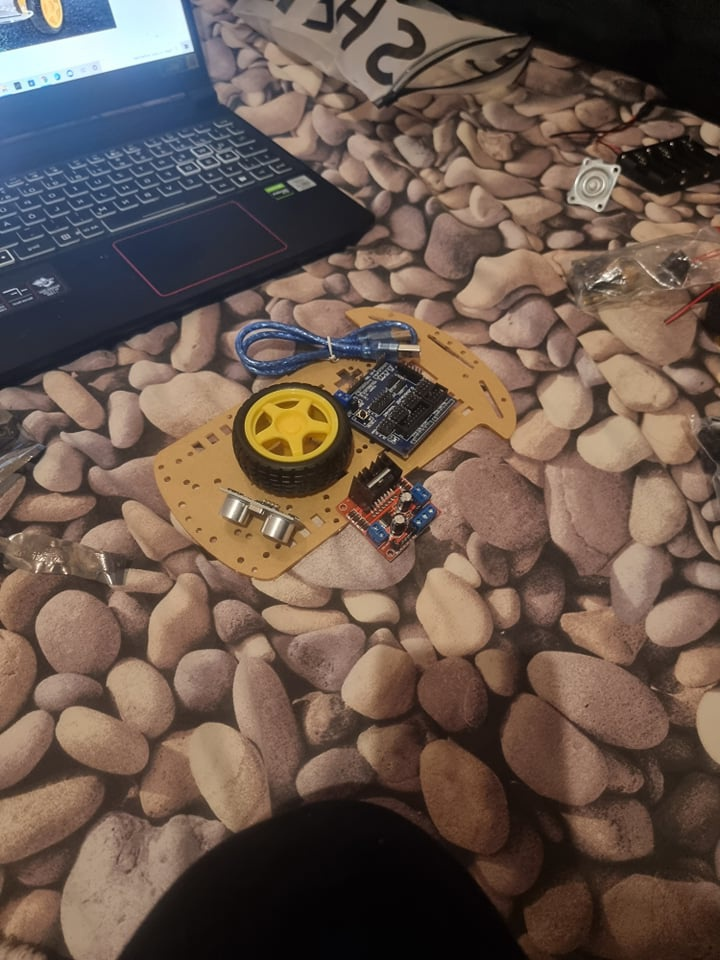5V EXPANSION: (334, 356, 458, 461)
BATTERY BOX: (617, 133, 719, 199)
MOTOR: (338, 453, 447, 561)
SENSOR: (218, 486, 300, 547)
